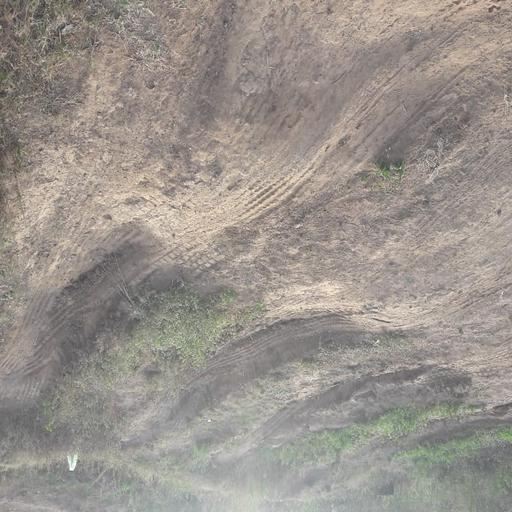vehicle_track: (0, 0, 503, 401), (196, 130, 512, 377)
